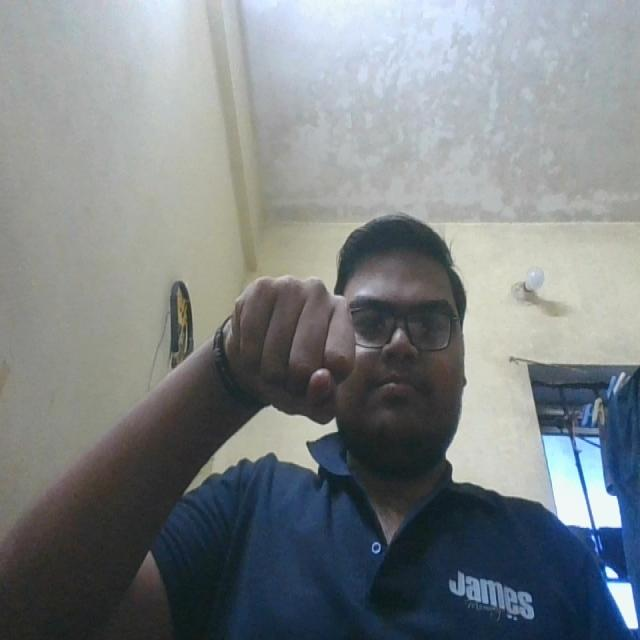Yes: (220, 252, 370, 424)
